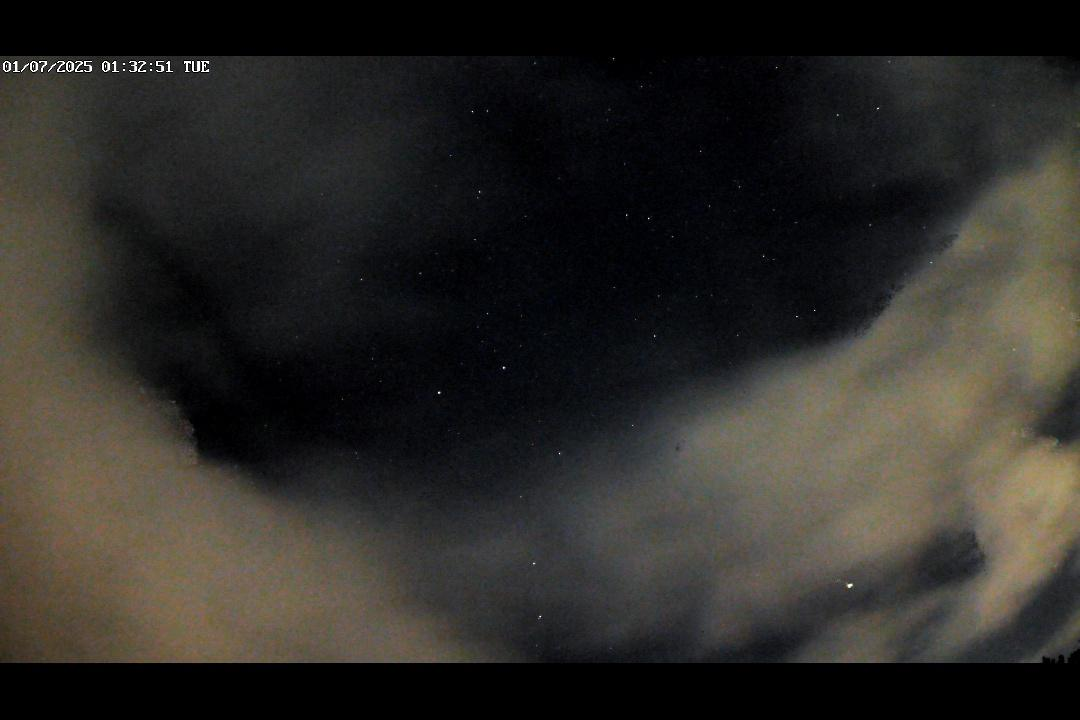Plane: (816, 568, 862, 593)
